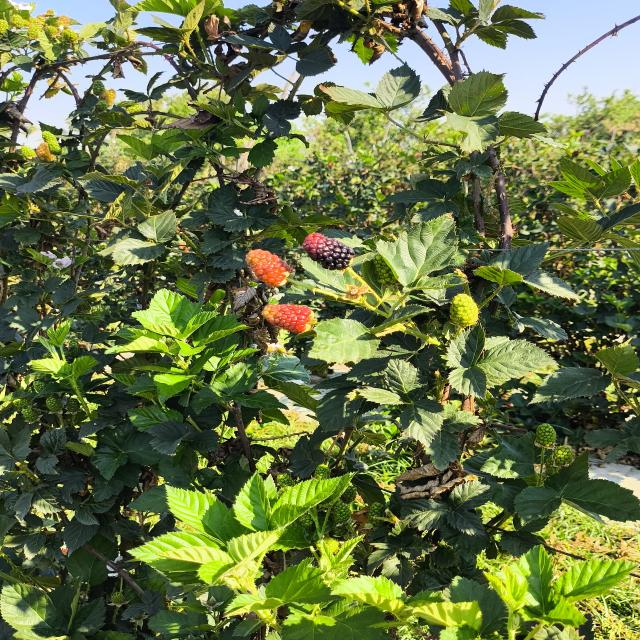marron: (302, 232, 354, 270)
naranja: (245, 249, 294, 287), (262, 304, 315, 333)
verde: (450, 293, 479, 327)
